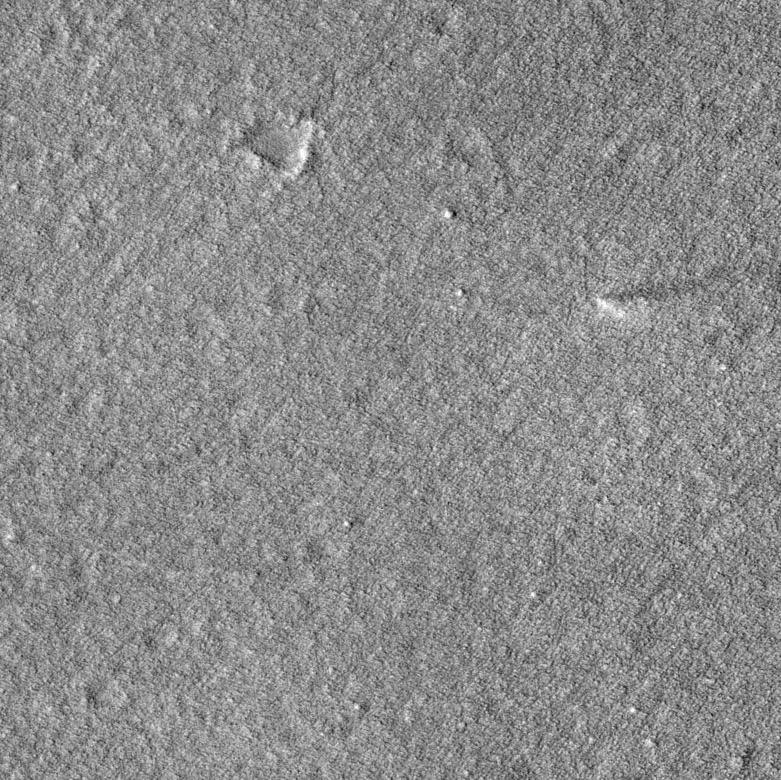dust_devil: (593, 266, 734, 321)
